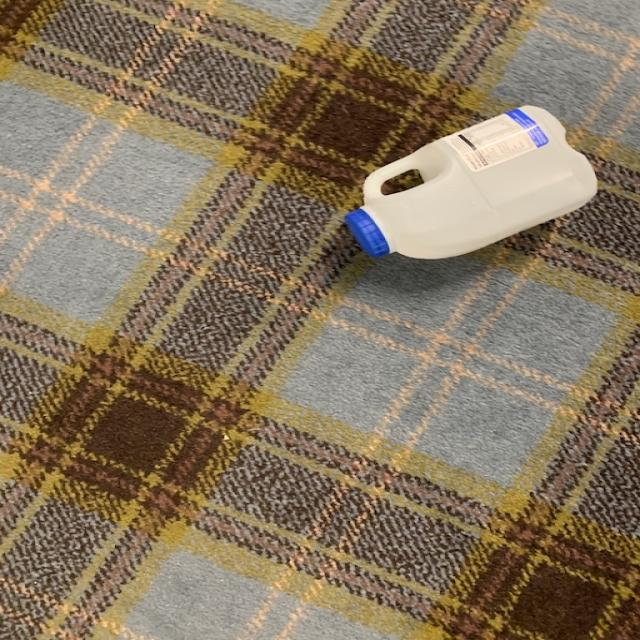litter: (340, 104, 604, 267)
